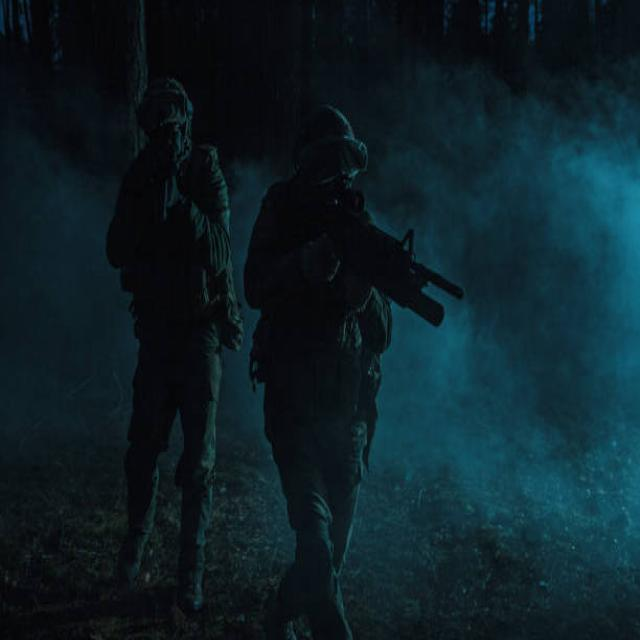Forest: (1, 0, 640, 640)
Militant: (234, 76, 435, 640), (74, 45, 258, 638)
